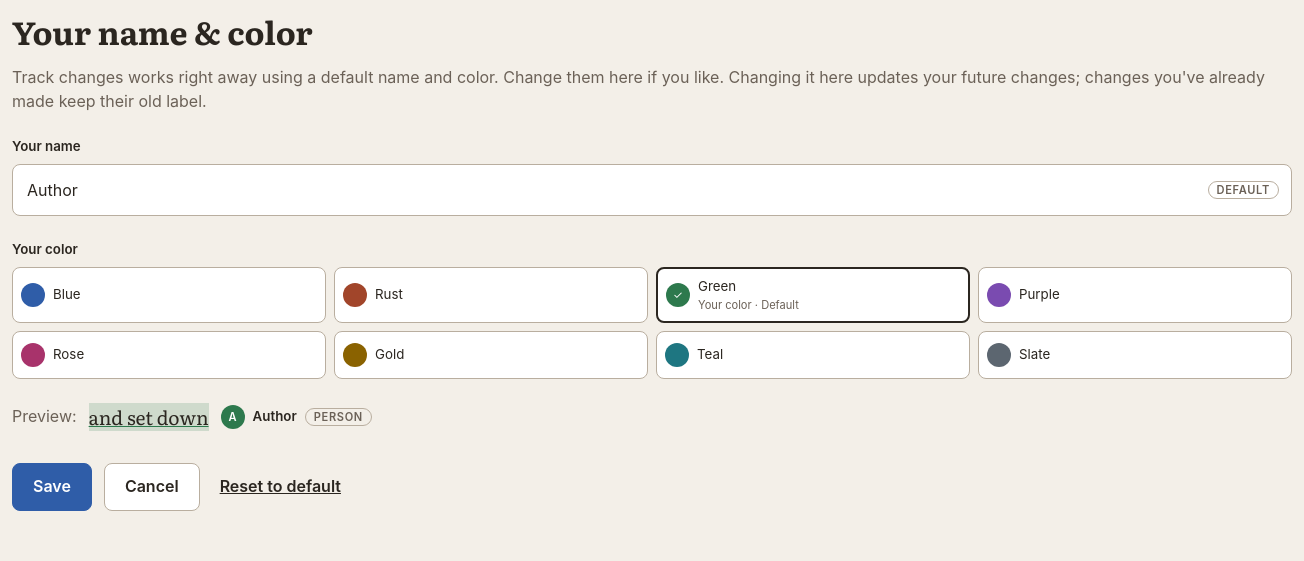
Test case: Your name & color (#99) › shows a clear error when the name is reserved (#184)
Replace the text in the field with test id "settings-name" with "You" at [610, 190], box [25,165,1196,215]
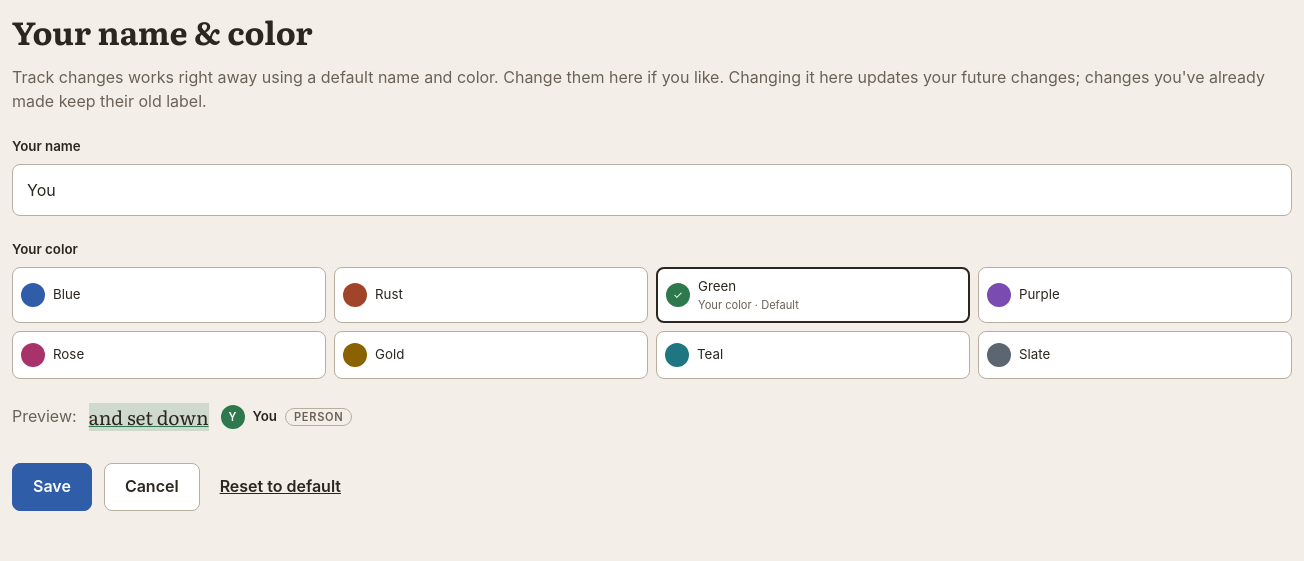
Click the button with test id "settings-save" at [52, 487], box [12,463,92,511]
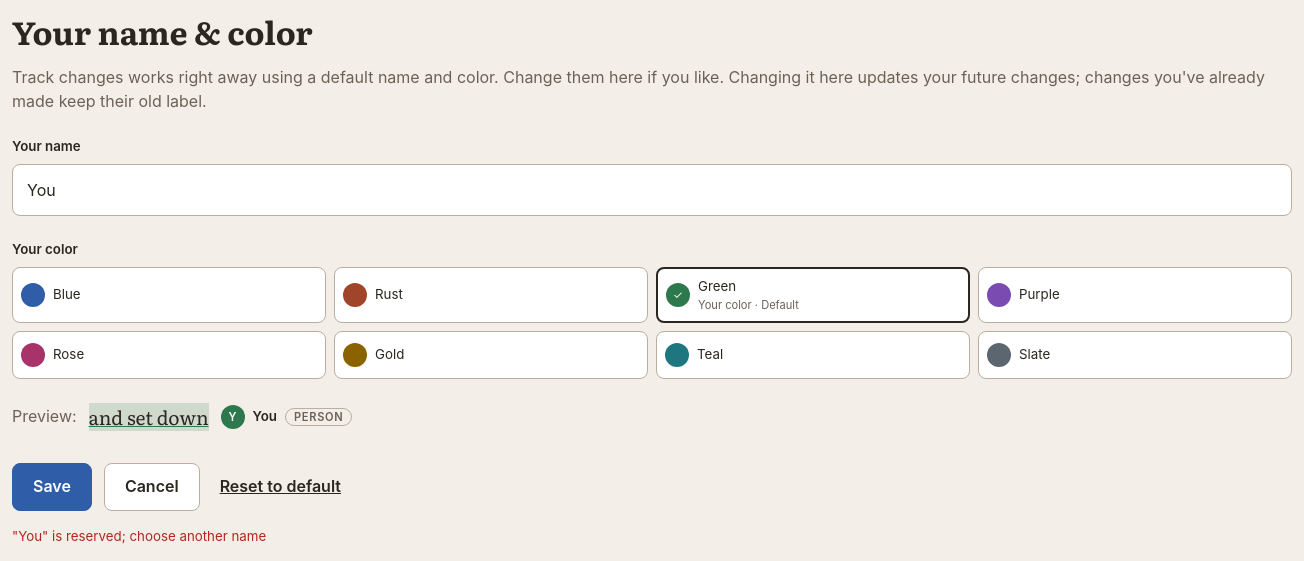
Now the message with test id "settings-name-error" shows "reserved", box [12,528,266,544]
